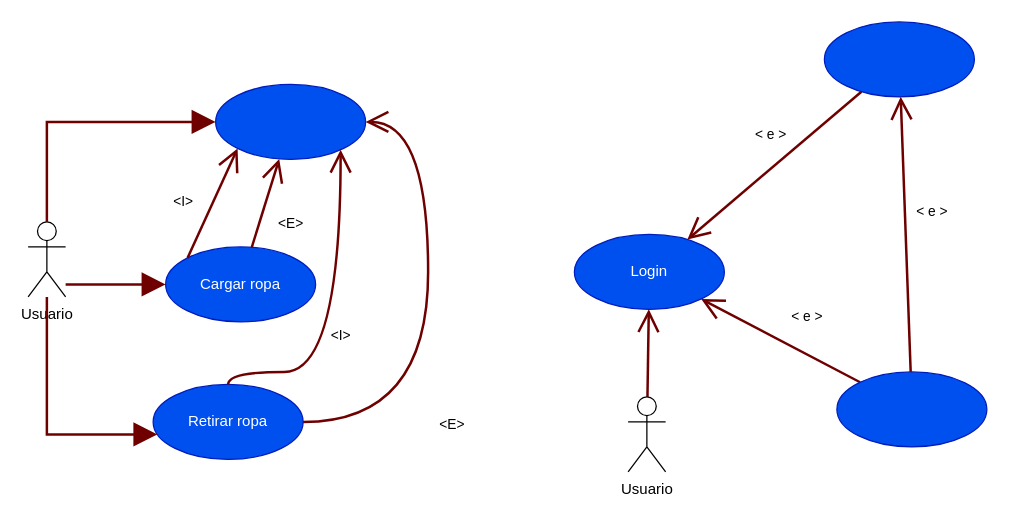
This 1009x520 diagram has some shape labels left out. Each missing label, with the centre of its shape:
Listar ropa: (290,121)
Registrar Usuario: (898,59)
Registrar Usuario google: (911,409)
